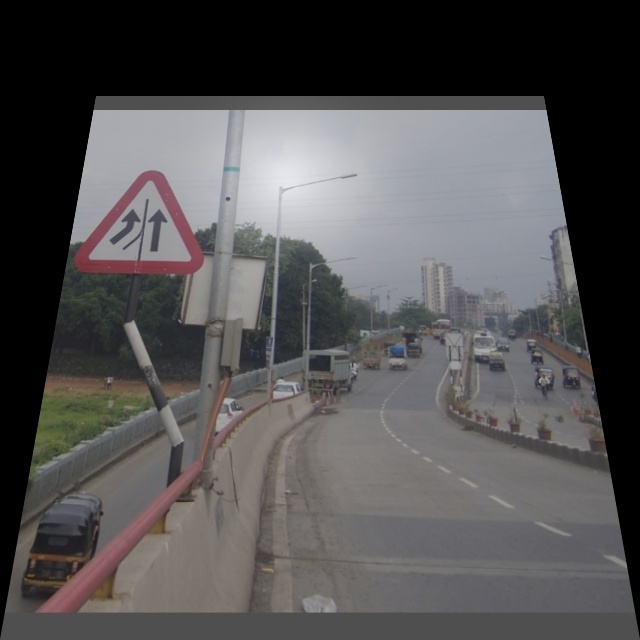Merge_Traffic_Ahead: (85, 162, 196, 281)
